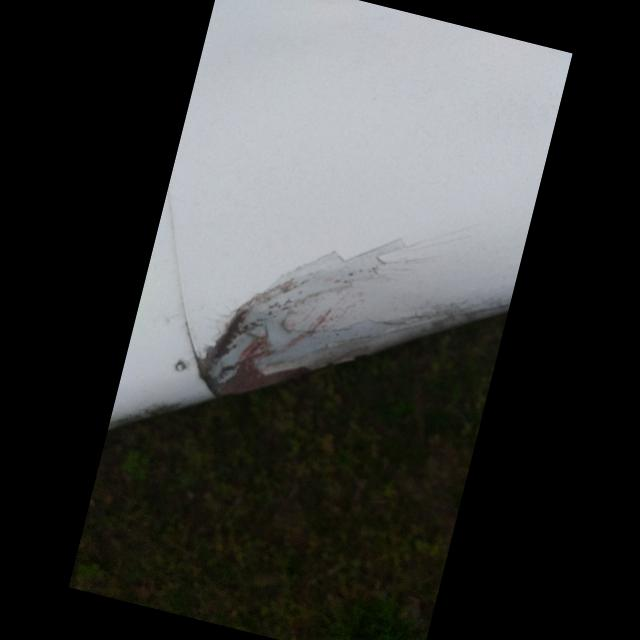dent: (185, 232, 396, 437)
